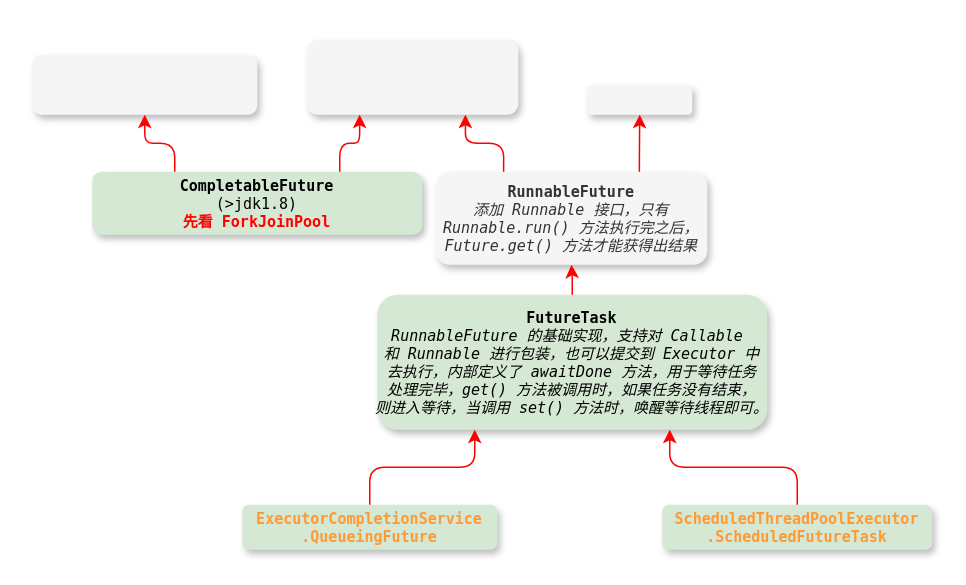
Image size: 966x585. Some labels were removed from this diagram. Here are the shapes that lost their labels. From the top down, the centre of each, then its label:
point (146, 86): CompletionStage 计算阶段? 申明了 大量函数式接口 (> jdk1.8)
point (413, 78): Future 顶级接口，定义 get 方法， 以及 cancel 和 其他 检测方法
point (640, 101): Runnable
